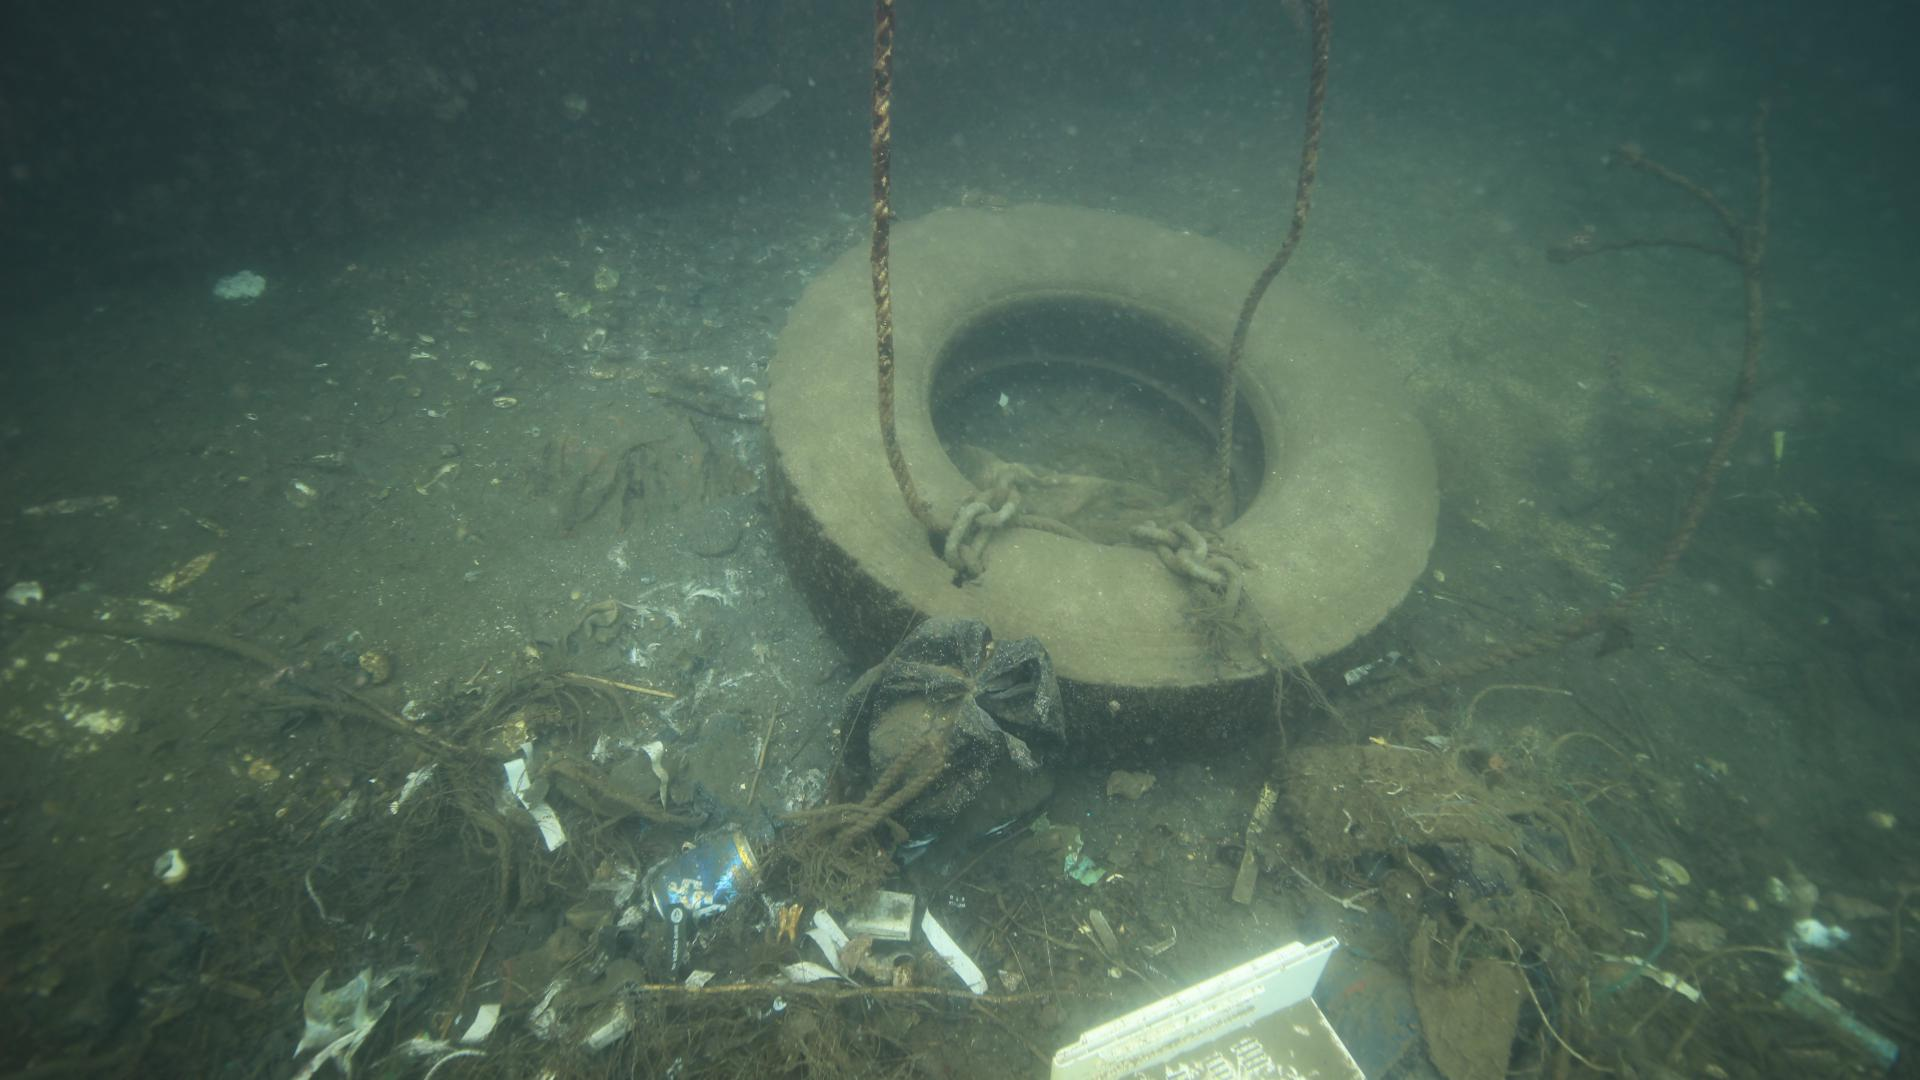bundle of ropes: (870, 0, 945, 535), (810, 752, 942, 840)
rope: (1342, 268, 1762, 711), (1208, 0, 1335, 530)
tire: (754, 196, 1440, 749)
